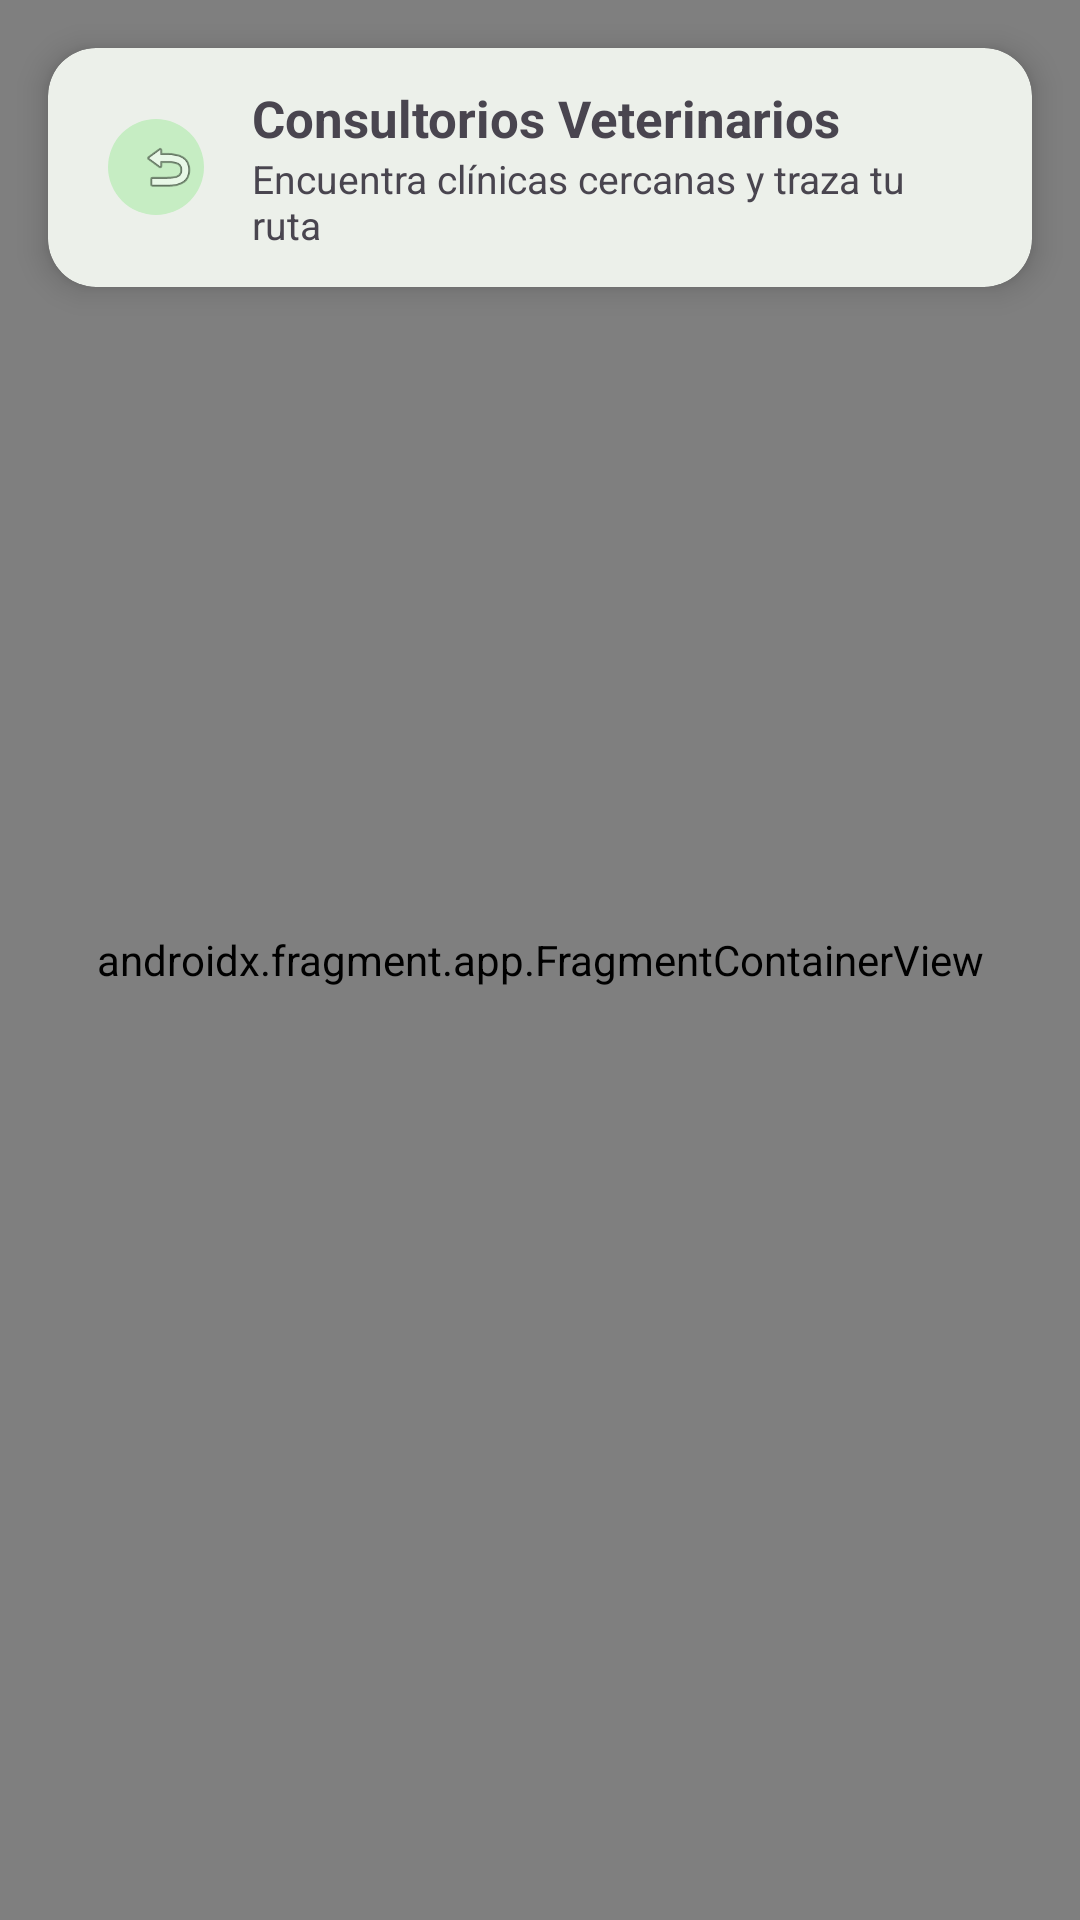

Point at icon controls on the screen. Image size 1080 x 1920, points as (x,y).
Atrás: (156,167)
